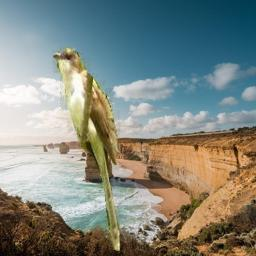Cuckoo: (50, 47, 120, 251)
